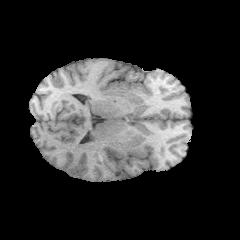glioma: (63, 140, 132, 166)
